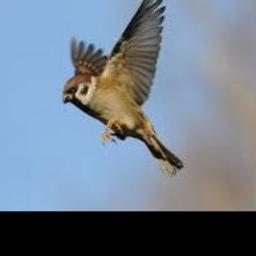Sparrow: (62, 0, 183, 179)
